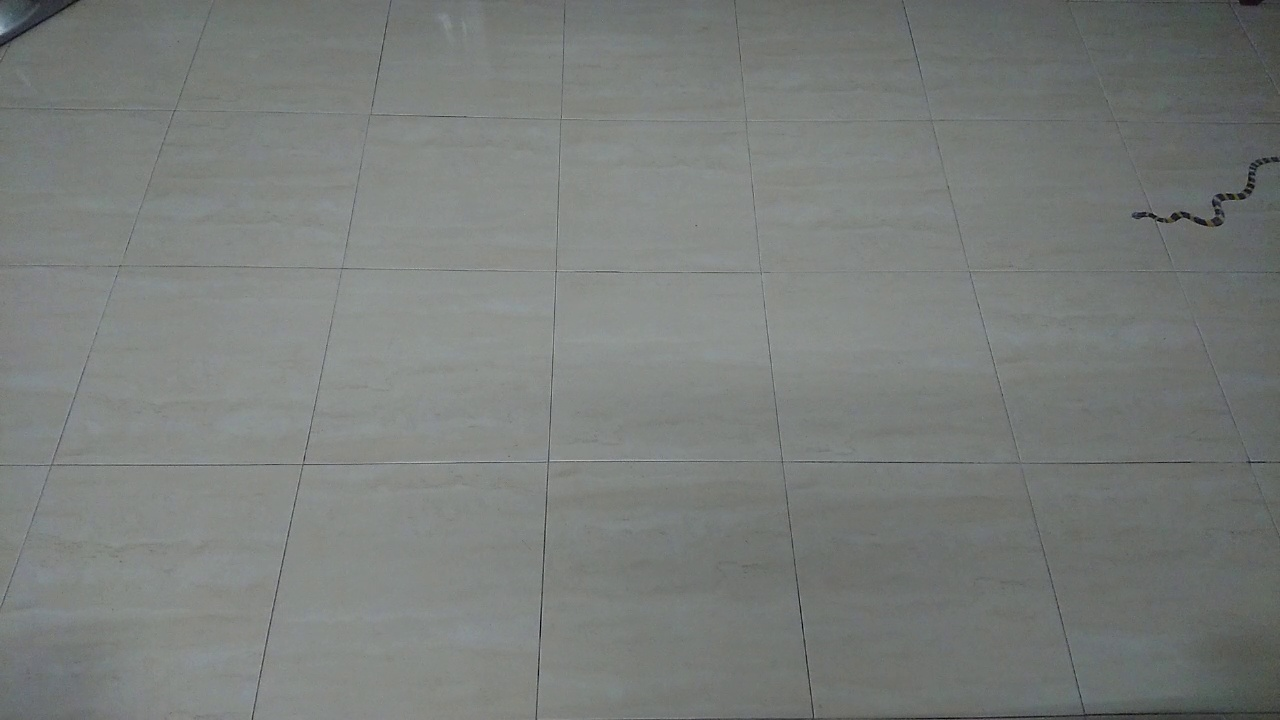snake: (1117, 145, 1280, 241)
